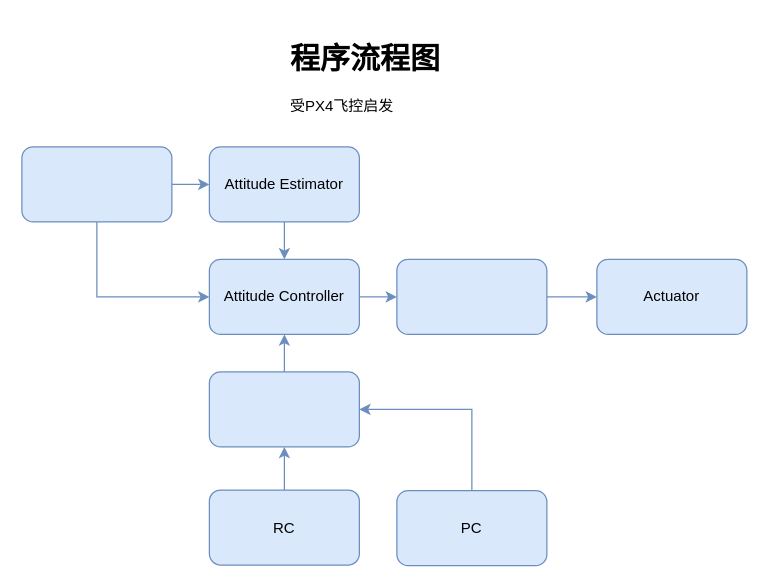
Some shapes in this 769 by 588 pixel diagram are drawn without their labels. Each missing label, with the box of its shape:
Command: (208, 371, 359, 447)
Mixer: (396, 258, 547, 334)
Sensor: (21, 146, 172, 222)
